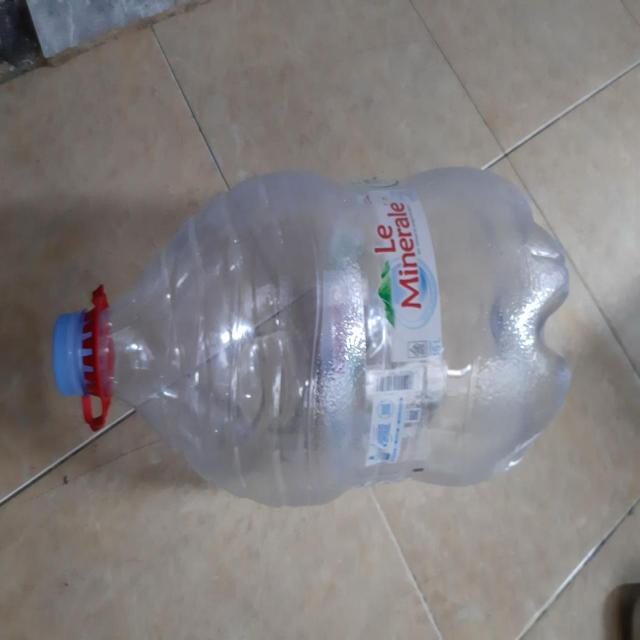Galon: (52, 163, 572, 508)
